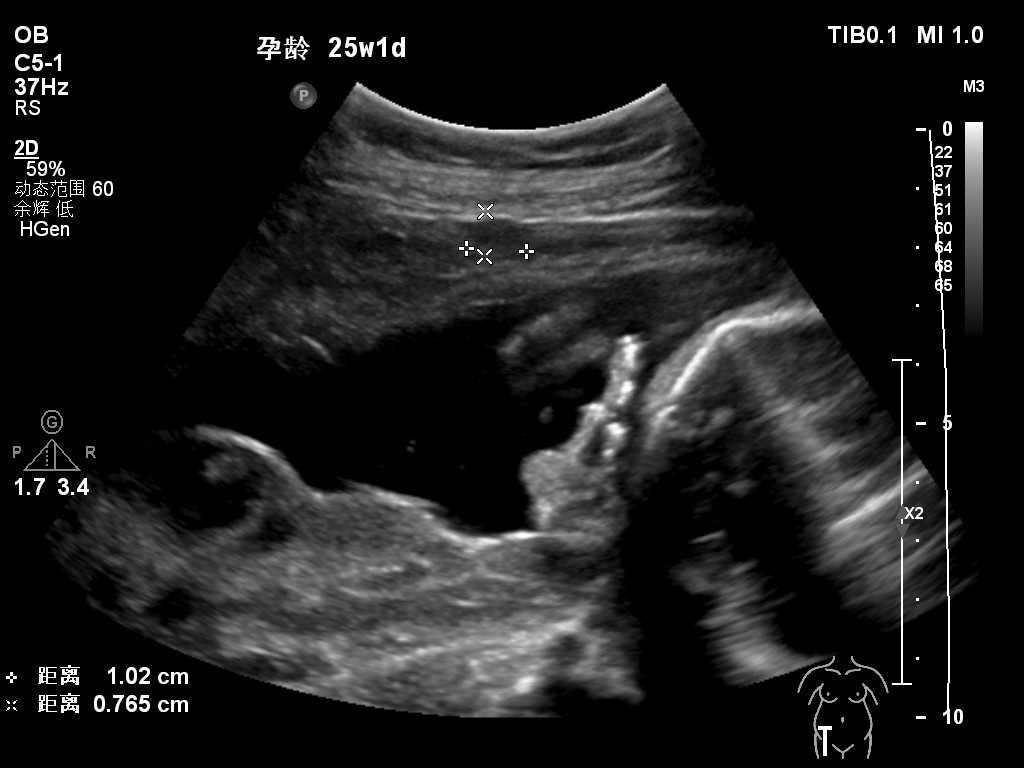肌瘤: (469, 219, 532, 258)
